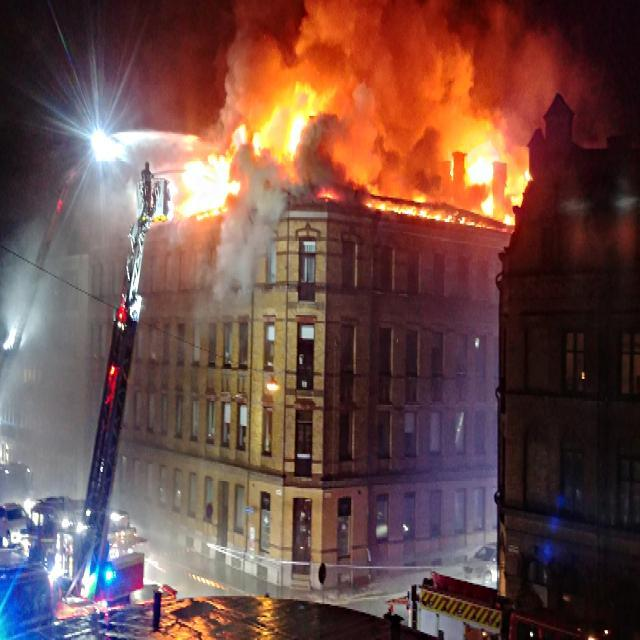Fire: (468, 152, 498, 190)
Smoke: (329, 17, 442, 176)
